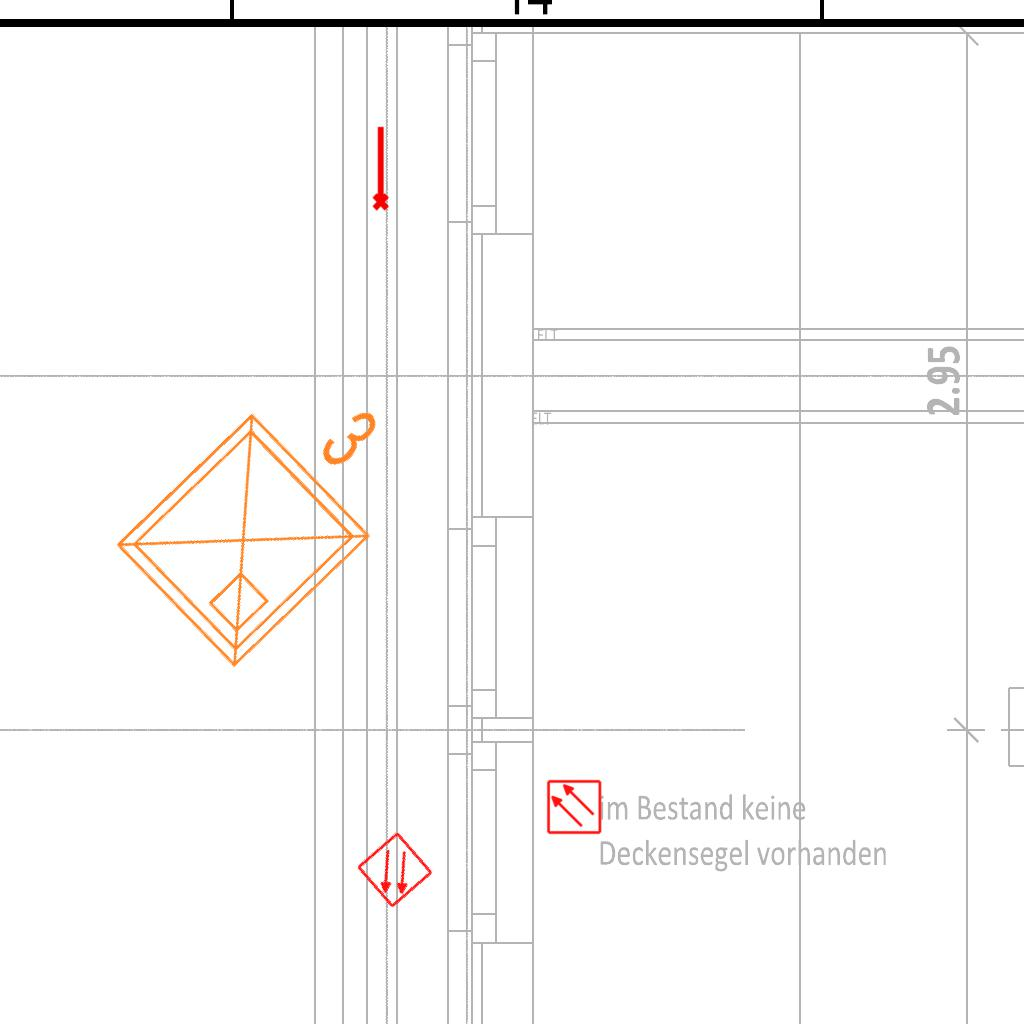ASR_Ansaugoeffnung: (368, 124, 391, 212)
Einbaudownlights_LED_Konferenzraeume: (89, 329, 451, 689)
RMO_Rauchmelder_optischer: (355, 830, 435, 910), (546, 779, 602, 835)
